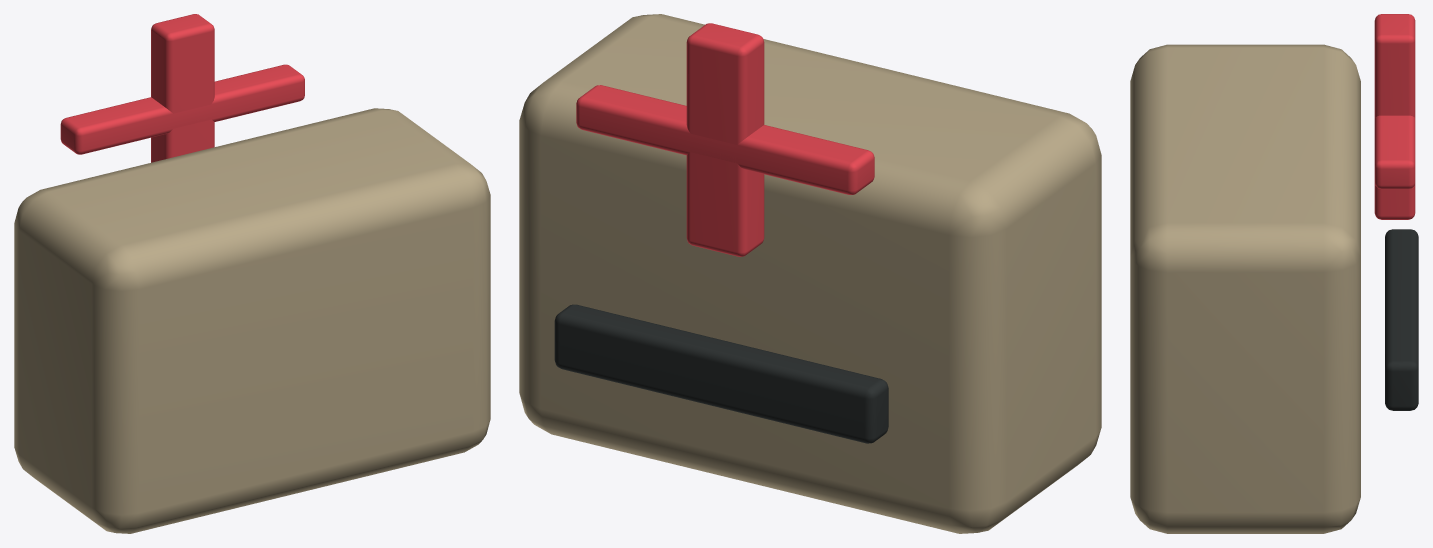
File: loot_medkit_final.glb
3 views of the same model, side by side, from view 1: azimuth 30°, elevation 25°; view 2: azimuth 150°, elevation 25°; view 3: azimuth 270°, elevation 25° (orthographic). The views are drawn at different scales.
Visible parts, largest first — view 1: medkit_fabric_medical_case, red_cross_horizontal, red_cross_vertical; view 2: medkit_fabric_medical_case, black_zipper_and_handle, red_cross_vertical, red_cross_horizontal; view 3: medkit_fabric_medical_case, black_zipper_and_handle, red_cross_vertical, red_cross_horizontal.
Part boxes in pixels (left/top/right/bottom): medkit_fabric_medical_case: left=14, top=108, right=490, bottom=533; red_cross_horizontal: left=60, top=64, right=304, bottom=154; red_cross_vertical: left=151, top=14, right=214, bottom=162; medkit_fabric_medical_case: left=519, top=14, right=1101, bottom=533; black_zipper_and_handle: left=554, top=304, right=888, bottom=443; red_cross_vertical: left=686, top=23, right=764, bottom=256; red_cross_horizontal: left=576, top=85, right=874, bottom=194; medkit_fabric_medical_case: left=1130, top=44, right=1360, bottom=533; black_zipper_and_handle: left=1385, top=229, right=1418, bottom=410; red_cross_vertical: left=1374, top=14, right=1415, bottom=219; red_cross_horizontal: left=1374, top=115, right=1415, bottom=189.
Bounding box in the file's own units: 0.8496 × 0.8024 × 0.5015.
